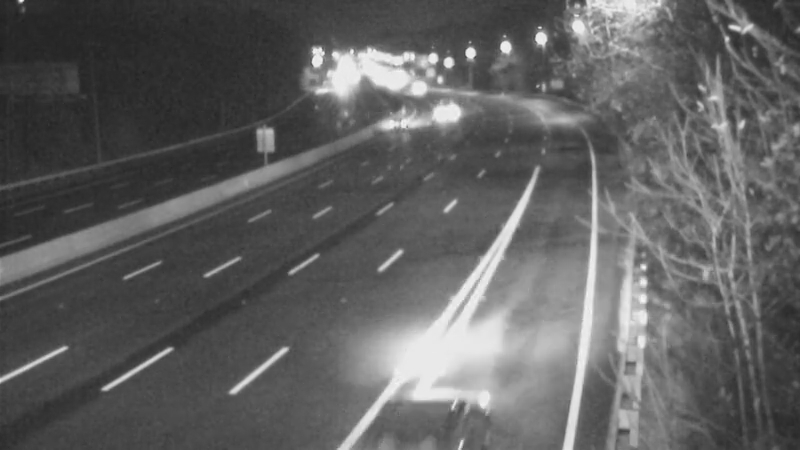vehicle: (364, 355, 474, 450), (416, 85, 466, 135), (373, 96, 423, 146)
